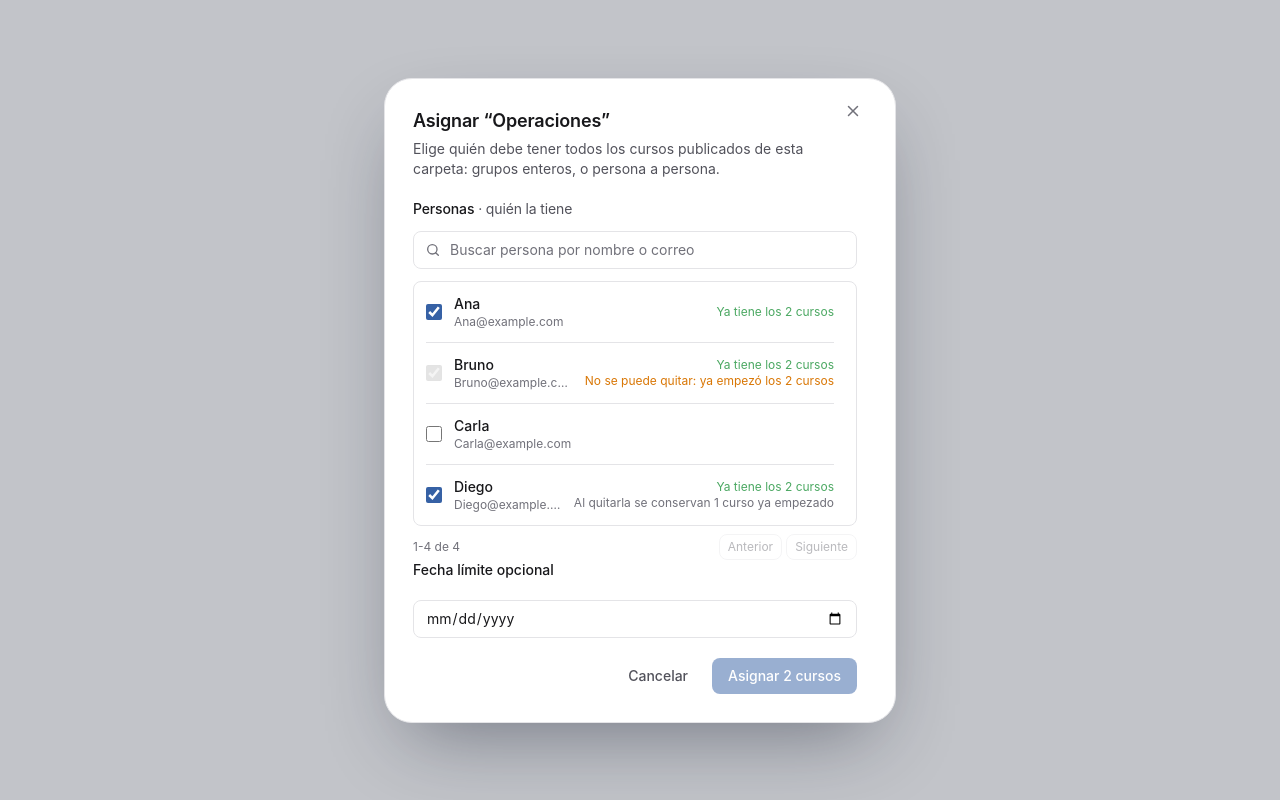
Test: FolderAssignmentDialog › unticking removes › deletes the enrollments of an unticked person, after asking first
expect the text "Ana" is shown: met, box top-left (454, 294), bottom-right (480, 312)
Step 1. Click the checkbox labelled "Ana Ana@example.com Ya tiene los 2 cursos" → (434, 312), box top-left (426, 304), bottom-right (442, 320)
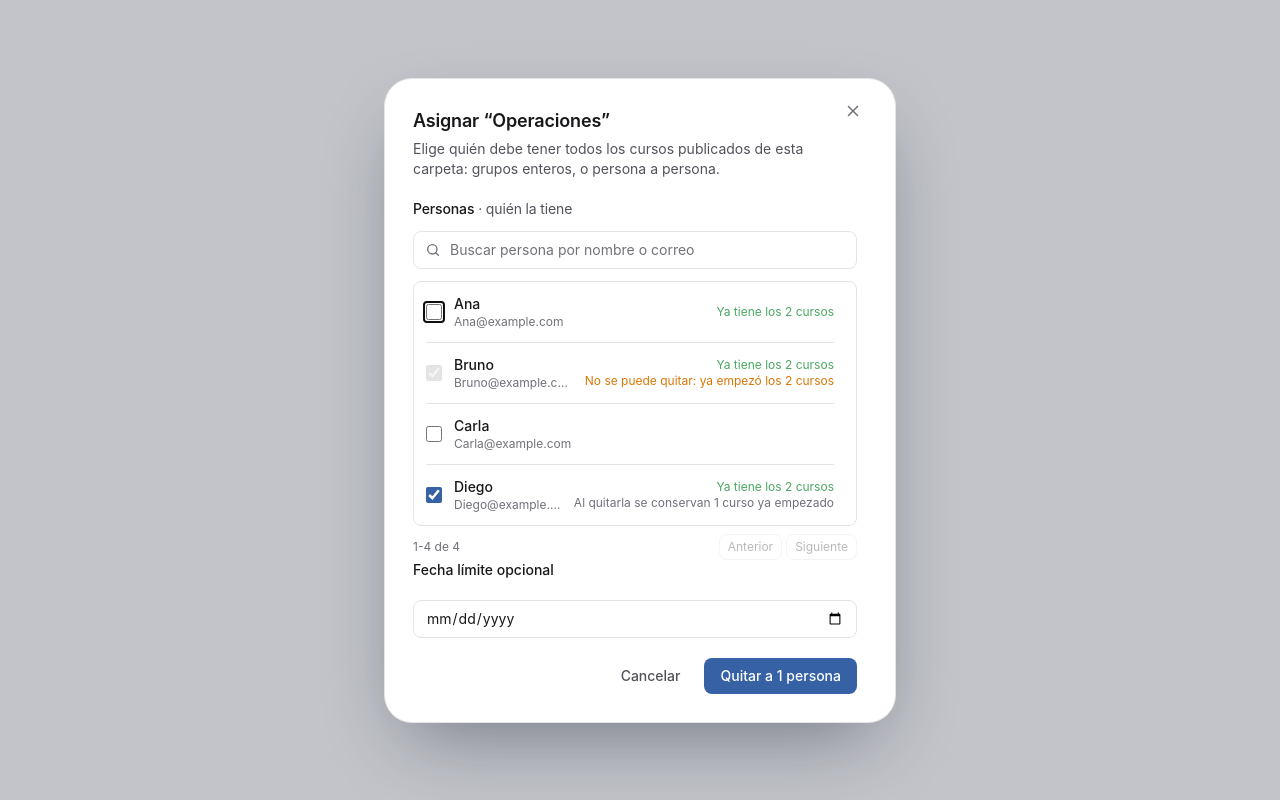
expect the checkbox labelled "Ana Ana@example.com Ya tiene los 2 cursos" is not checked: met, box top-left (426, 304), bottom-right (442, 320)
Step 2. Click the button "Quitar a 1 persona" → (781, 676), box top-left (704, 658), bottom-right (857, 694)
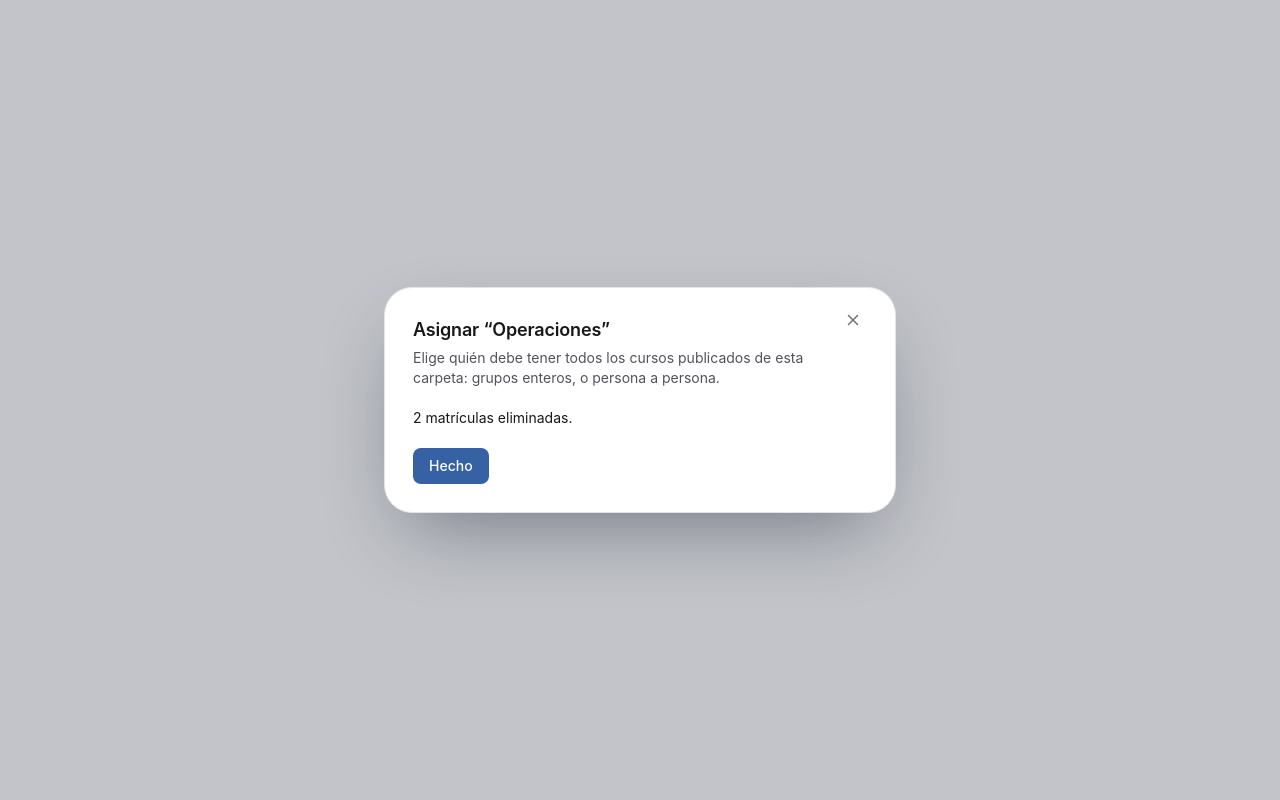
expect the text "2 matrículas eliminadas." is shown: met, box top-left (413, 409), bottom-right (572, 426)
